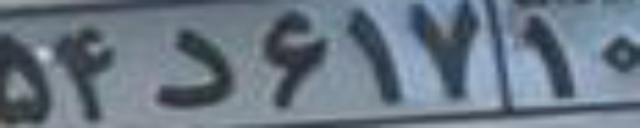0: (598, 36, 637, 75)
1: (344, 8, 399, 102), (521, 15, 573, 97)
4: (52, 29, 117, 120)
5: (0, 33, 48, 123)
6: (260, 13, 330, 106)
7: (407, 1, 483, 99)
dal: (152, 29, 237, 108)
